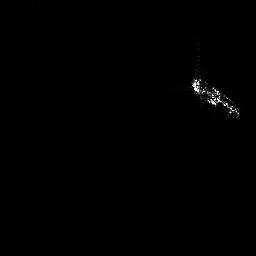ship: (184, 72, 243, 123)
